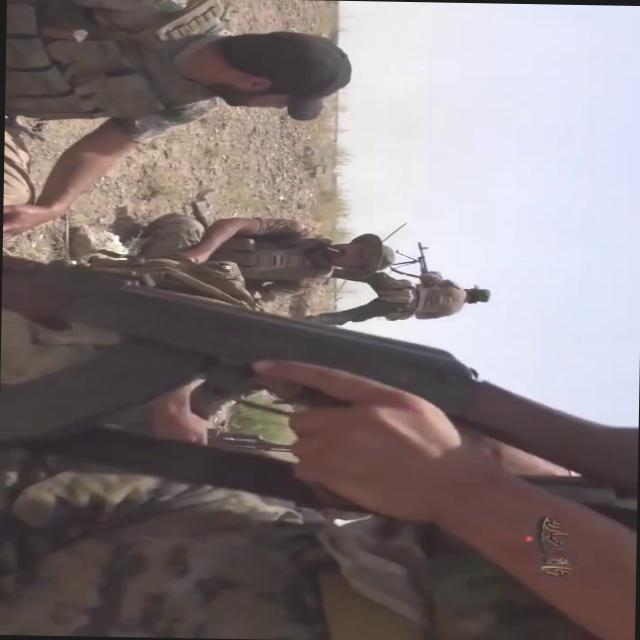long weapon: (0, 235, 627, 548)
